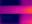Hotspot: (28, 6, 31, 13)
